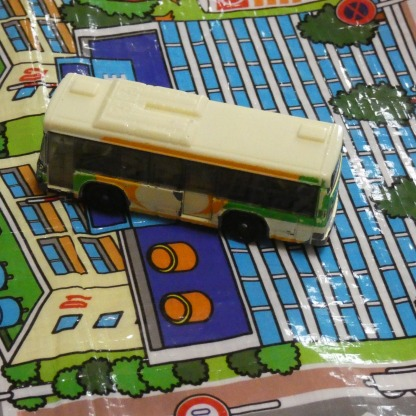car: (32, 77, 341, 249)
